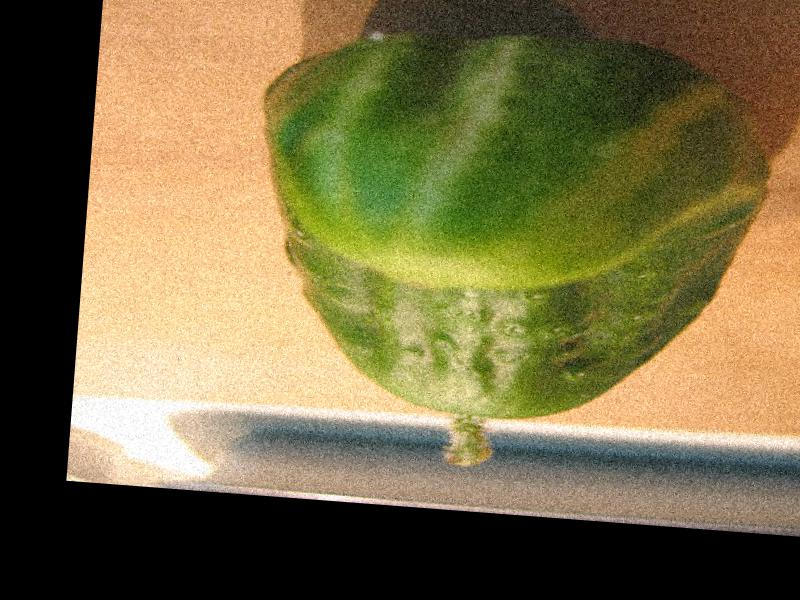Cucumber: (232, 11, 774, 488)
